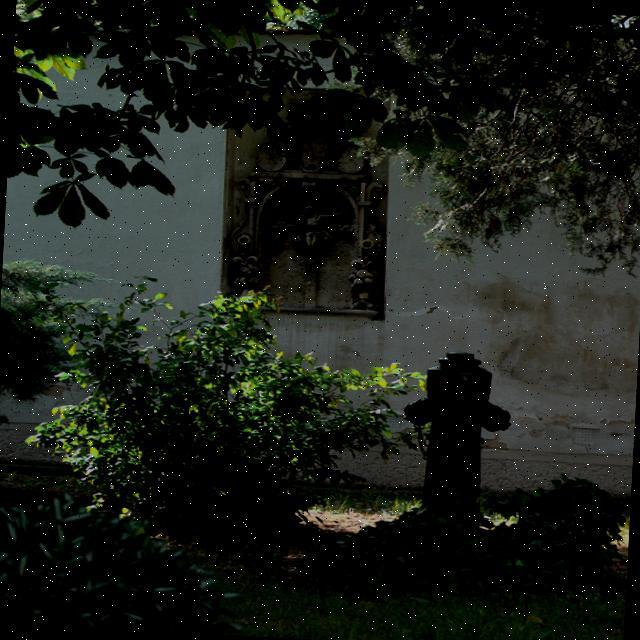fire_hydrant: (398, 350, 514, 521)
